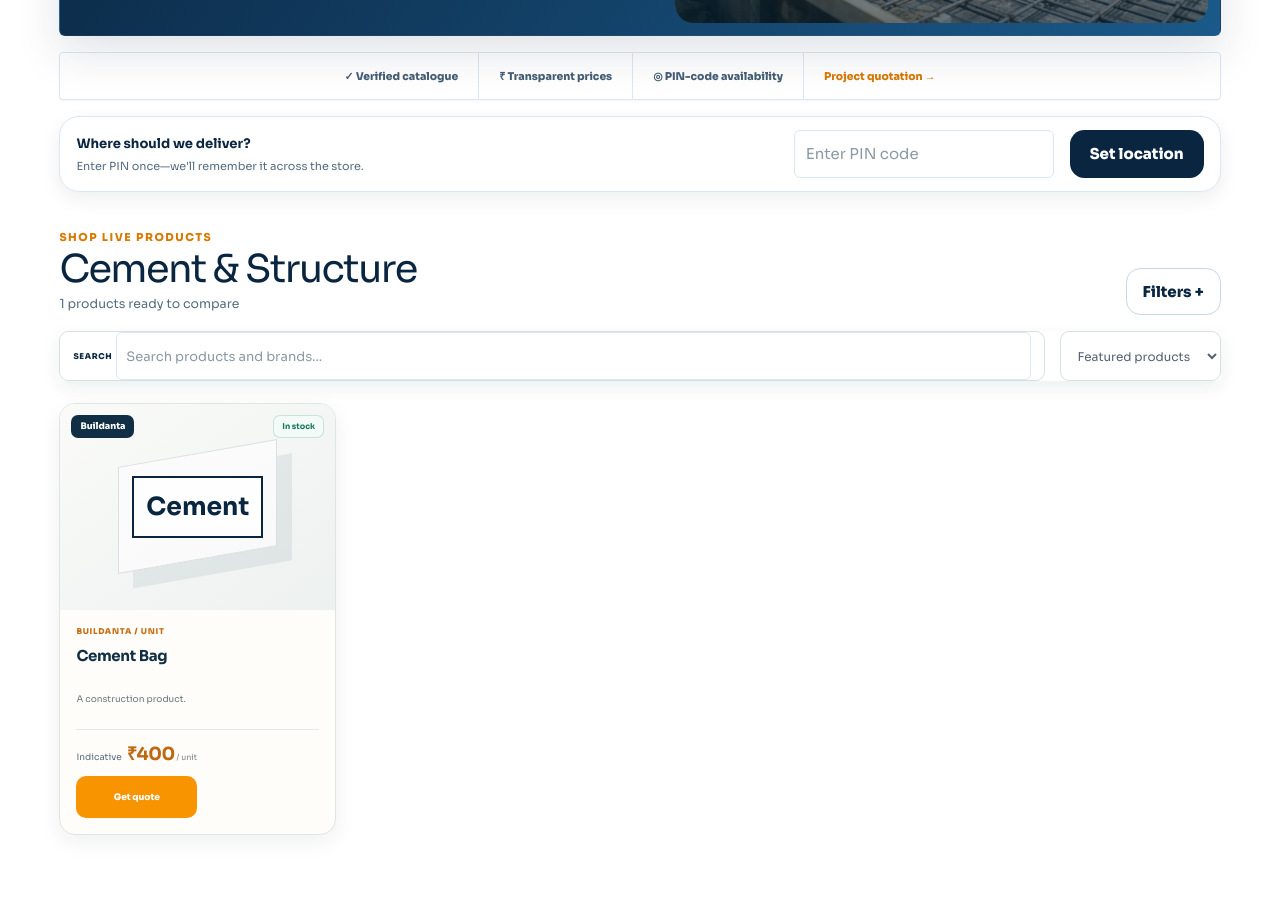
Scenario: ProductBrowser › shows the empty state when the search term matches nothing
This screenshot has width=1280, height=899.
(page scrolled)
Type "nonexistent product name" into the field with placeholder "Search products and brands...".
click(573, 356); type("nonexistent product name")  # box [116, 332, 1031, 380]
(page scrolled)
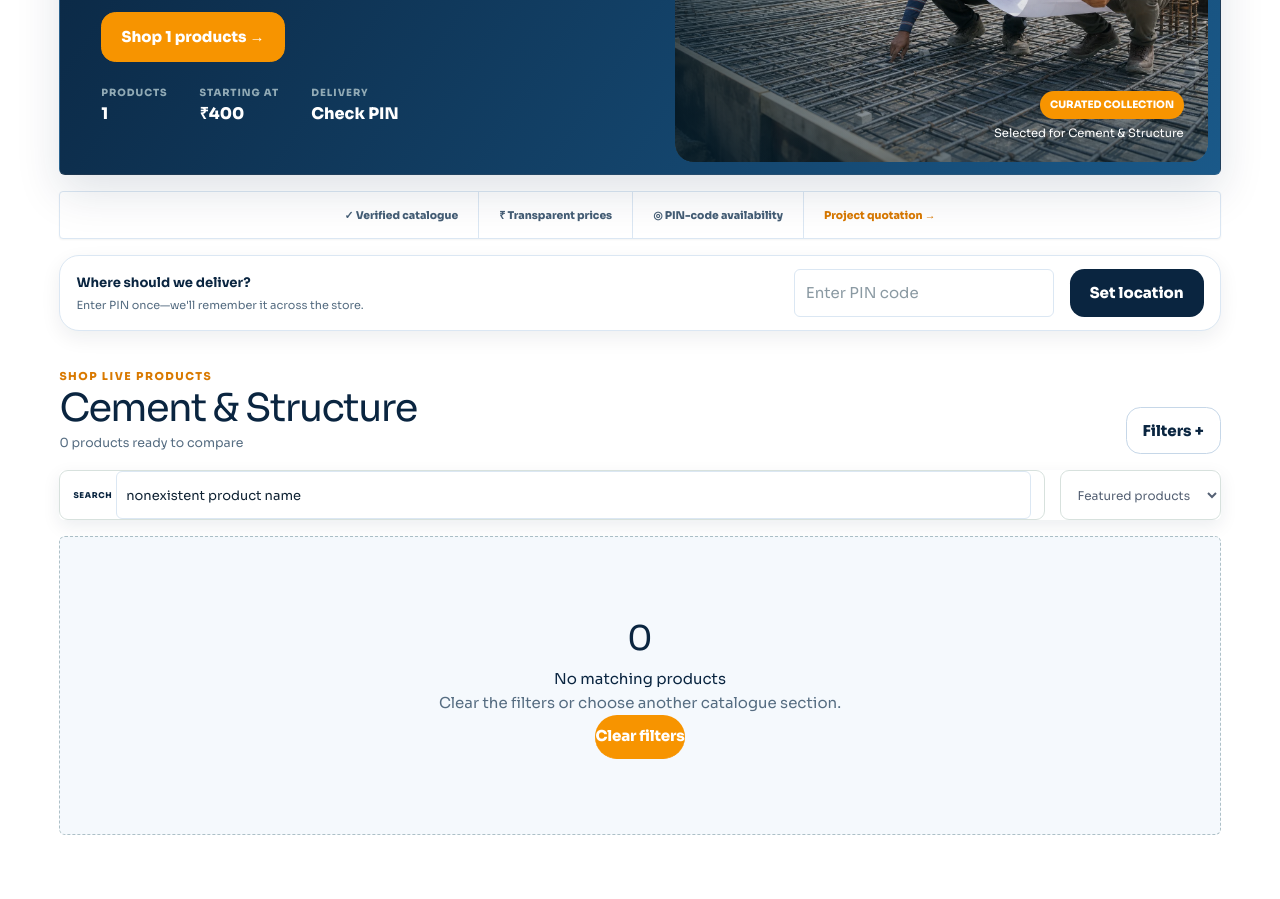
Check: the heading "No matching products" is shown, box [554, 668, 726, 688]
